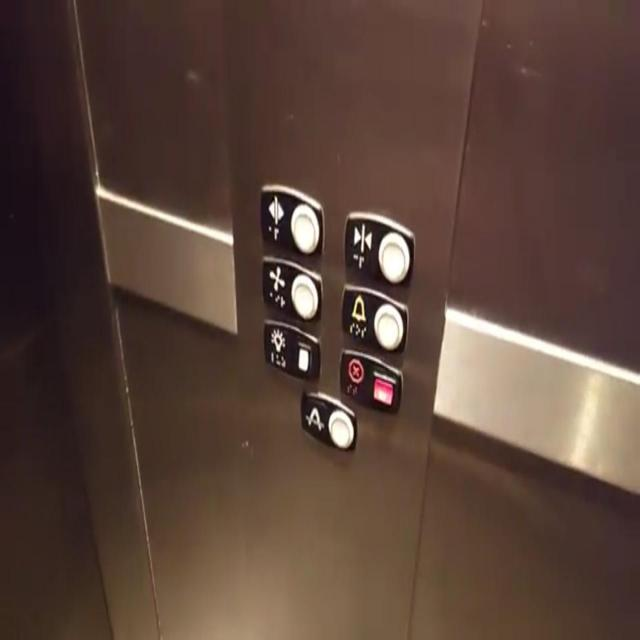alarm: (338, 282, 410, 358)
close: (342, 209, 416, 287)
fan: (259, 254, 325, 324)
light: (260, 317, 322, 384)
open: (258, 182, 326, 260)
stop: (336, 347, 404, 415)
unknown: (298, 385, 358, 455)
